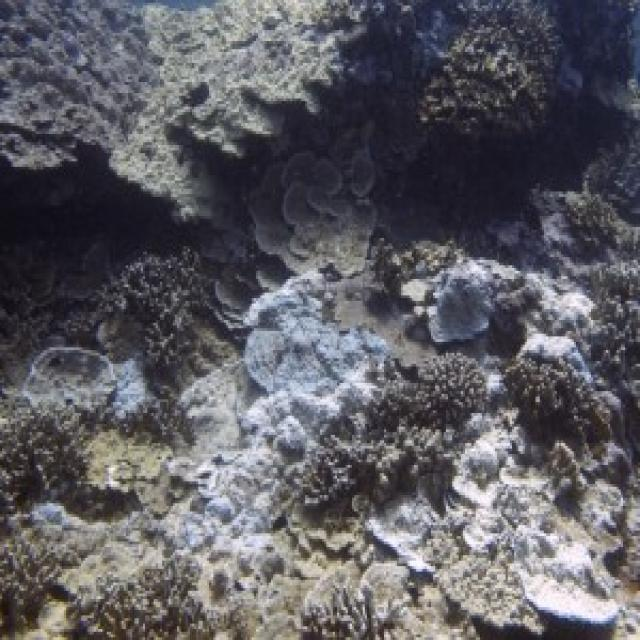Bleached: (244, 275, 387, 392), (451, 411, 536, 548), (165, 447, 280, 545), (507, 532, 618, 625), (404, 261, 494, 343), (242, 389, 340, 450), (366, 493, 443, 570), (180, 362, 244, 436), (524, 272, 594, 335), (112, 362, 152, 419)
Healthy: (291, 354, 490, 512), (253, 146, 374, 272), (71, 553, 212, 638), (1, 409, 86, 502), (1, 529, 63, 630)
